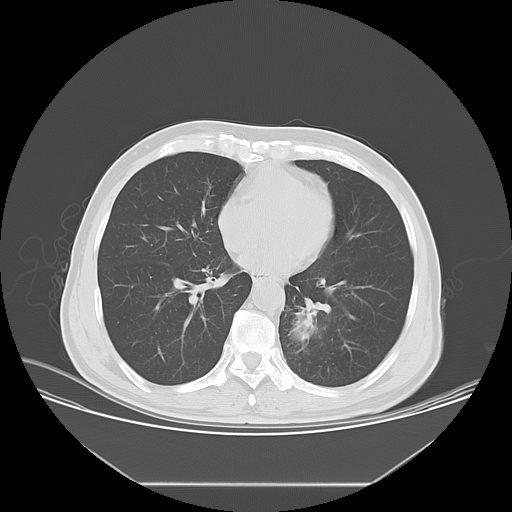nodule: (289, 311, 319, 339)
